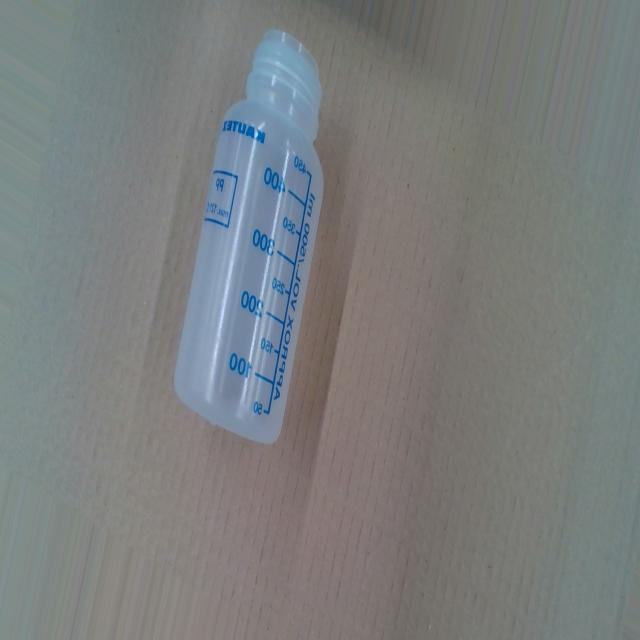bottle: (175, 30, 329, 454)
